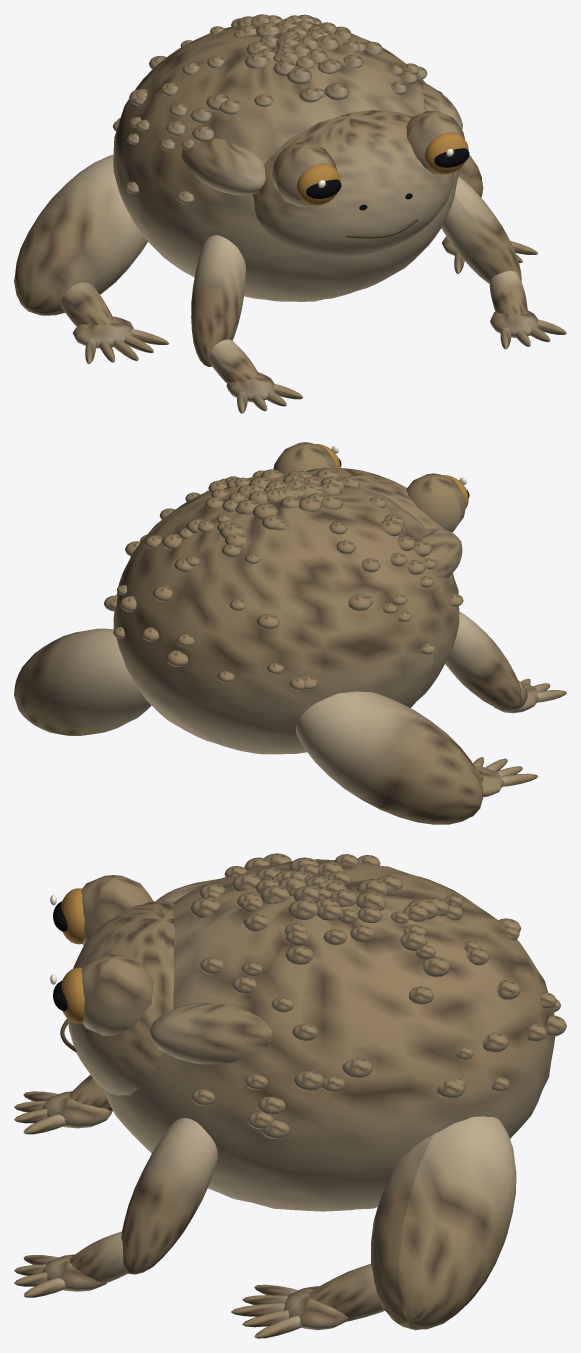
Rendered from toad-observation-prototype.glb.
3 views of the same model, one above another, from view 1: azimuth 30°, elevation 25°; view 2: azimuth 150°, elevation 25°; view 3: azimuth 270°, elevation 25° (orthographic). The views are drawn at different scales.
Visible parts, largest first — view 1: toad-observation-study, eye--1, eye-1; view 2: toad-observation-study; view 3: toad-observation-study, eye-1, eye--1.
Part boxes in pixels (x1,y1,x2,y2): toad-observation-study: [14, 14, 566, 413]; eye--1: [296, 163, 341, 205]; eye-1: [424, 132, 469, 174]; toad-observation-study: [14, 442, 566, 824]; toad-observation-study: [14, 853, 566, 1338]; eye-1: [50, 967, 84, 1023]; eye--1: [50, 888, 84, 944].
Bounding box in the file's own units: 2.44 × 1.32 × 2.
